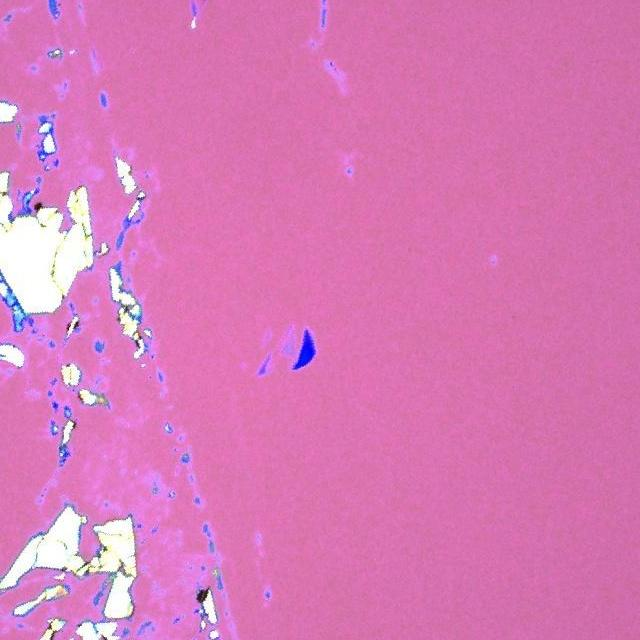monolayer-eWW4: (282, 340, 296, 354)
